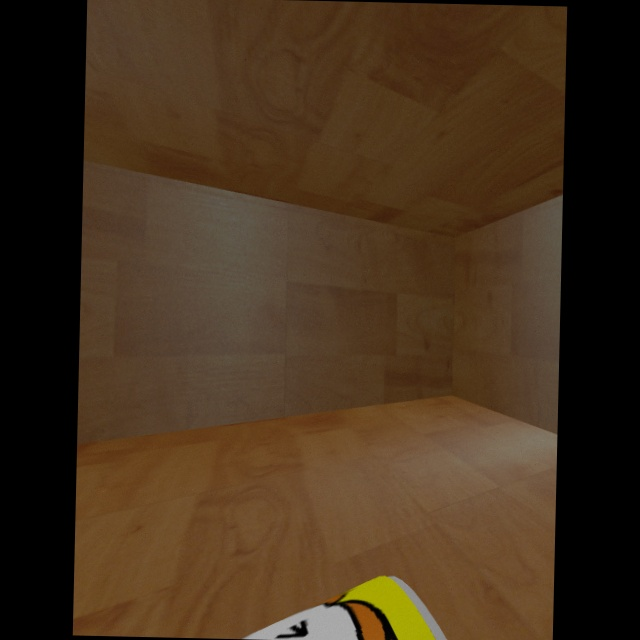chipsdose_gelb: (238, 574, 446, 640)
